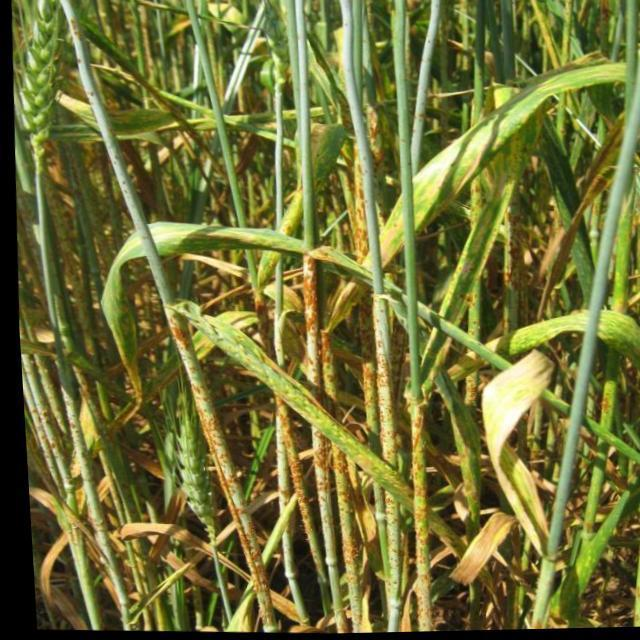Stem Rust: (159, 295, 422, 634), (298, 256, 316, 392)
